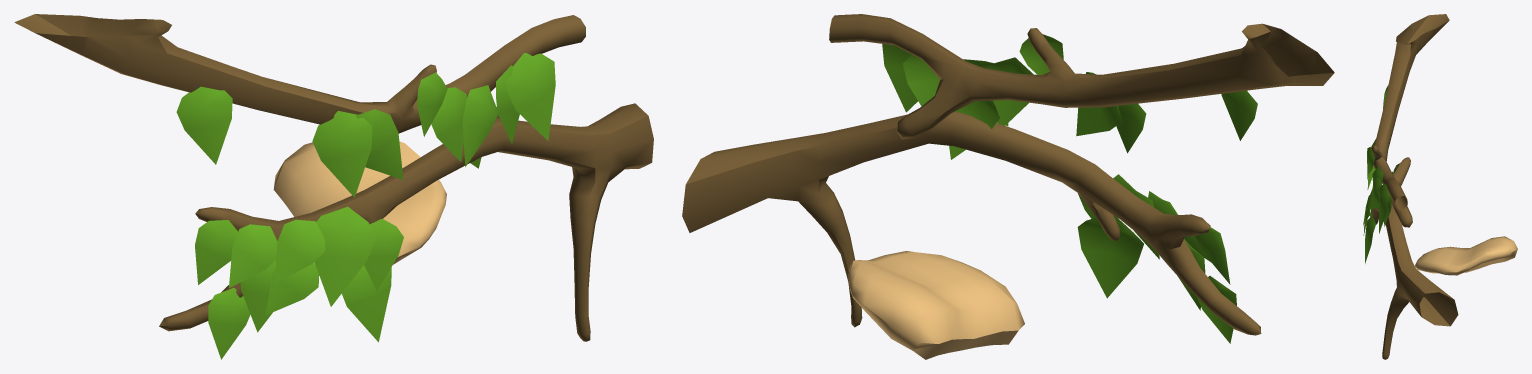
Rendered from vines.glb.
3 views of the same model, side by side, from view 1: azimuth 30°, elevation 25°; view 2: azimuth 150°, elevation 25°; view 3: azimuth 270°, elevation 25° (orthographic). The views are drawn at different scales.
Parts seen in each view (by area): view 1: Vines; view 2: Vines; view 3: Vines.
Part boxes in pixels (x1,y1,x2,y2): Vines: (14, 14, 653, 359); Vines: (682, 14, 1334, 359); Vines: (1363, 14, 1517, 359).
Size of the model in its own units: 1.6 by 1 by 0.6592.
Materials: 1 (1 with a texture image).
